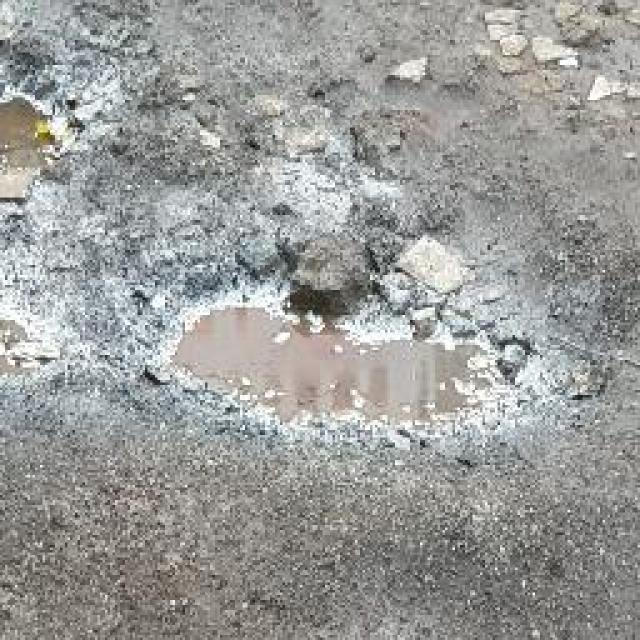puddle: (167, 303, 509, 437)
